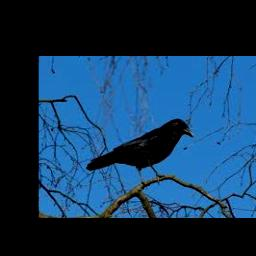Crow: (87, 118, 194, 185)
